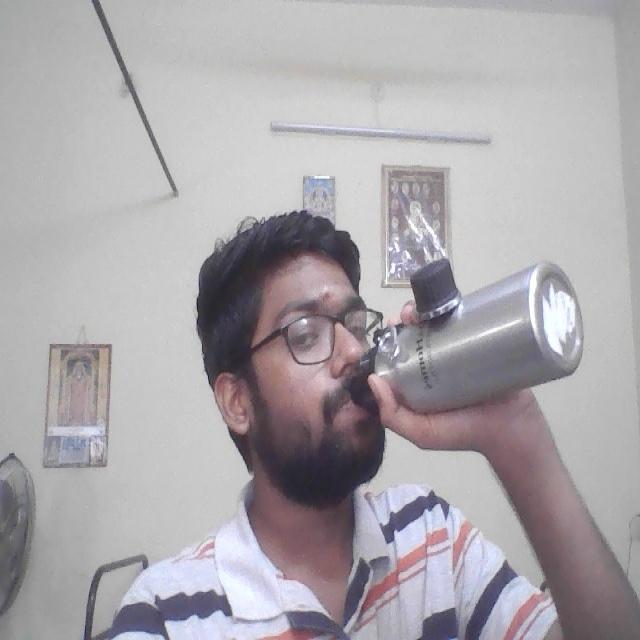Drinking: (368, 257, 584, 411)
